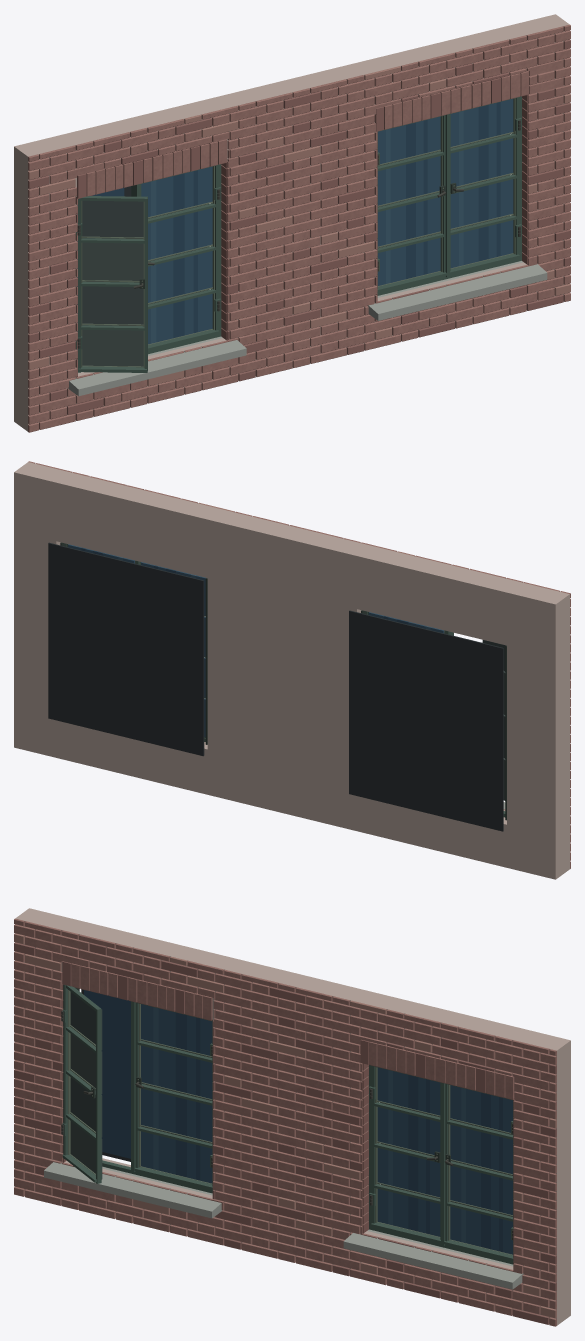
File: changning-zhongyi-village-blue-steel-casements-raw.glb
3 renders of one model, top to bottom at view 1: azimuth 30°, elevation 25°; view 2: azimuth 150°, elevation 25°; view 3: azimuth 330°, elevation 25°, orthographic.
Visible parts, largest first — view 1: 中一村江苏路46弄住宅青色钢窗与立砖窗楣; view 2: 中一村江苏路46弄住宅青色钢窗与立砖窗楣; view 3: 中一村江苏路46弄住宅青色钢窗与立砖窗楣.
Boxes of the visible parts, box(x1,y1,x2,y2) form: 中一村江苏路46弄住宅青色钢窗与立砖窗楣: box(14, 14, 570, 432); 中一村江苏路46弄住宅青色钢窗与立砖窗楣: box(14, 461, 570, 879); 中一村江苏路46弄住宅青色钢窗与立砖窗楣: box(14, 908, 570, 1326).
Bounding box in the file's own units: 5.13 × 2.49 × 0.6702.
Materials: 17 (1 with a texture image).
